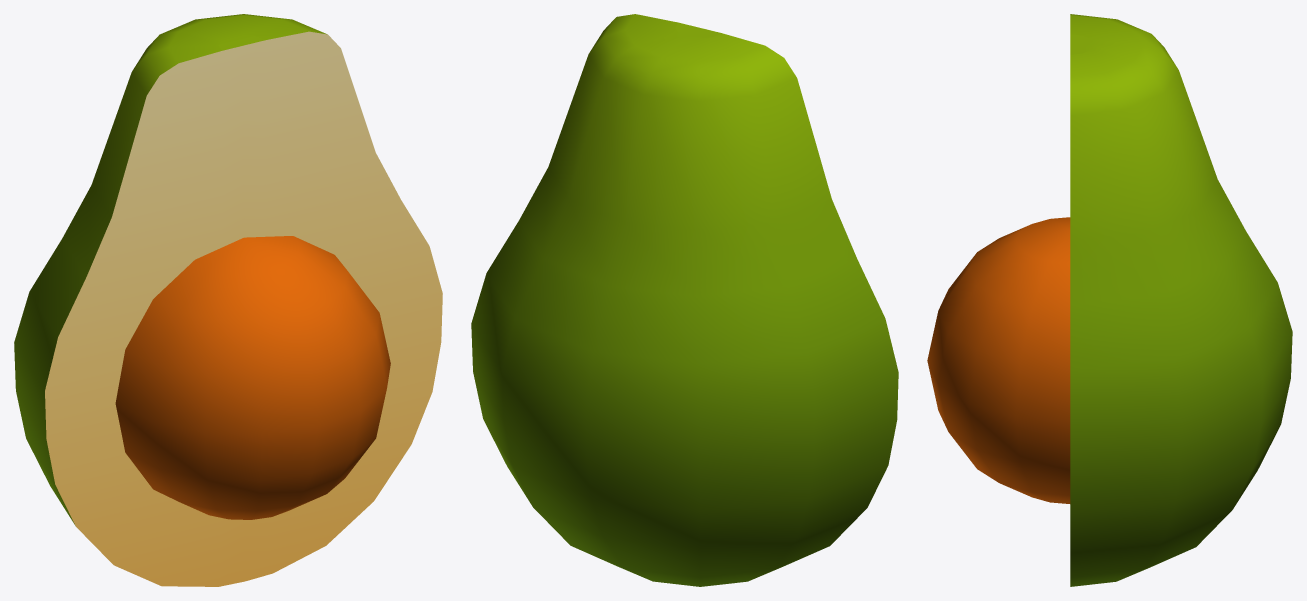
Rendered from Collectable_Avocado_02.fbx.
3 renders of one model, left to right at view 1: azimuth 30°, elevation 25°; view 2: azimuth 150°, elevation 25°; view 3: azimuth 270°, elevation 25°, orthographic. The views are drawn at different scales.
Parts seen in each view (by area): view 1: Collectable_Avocado_02; view 2: Collectable_Avocado_02; view 3: Collectable_Avocado_02.
Part boxes in pixels (bbox=[...]): Collectable_Avocado_02: bbox=[14, 14, 442, 586]; Collectable_Avocado_02: bbox=[471, 14, 898, 586]; Collectable_Avocado_02: bbox=[927, 14, 1292, 586].
Size of the model in its own units: 30.23 by 38.93 by 24.84.
1 material, 1 textured.
